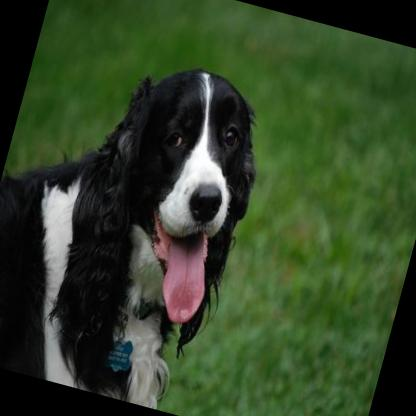English_springer: (0, 24, 278, 416)
